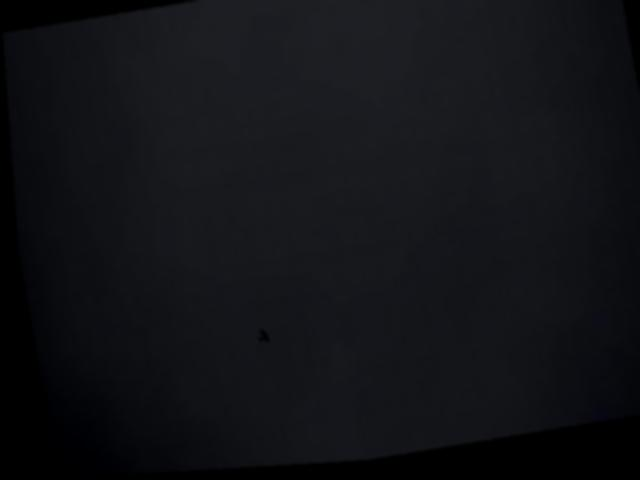uav: (245, 325, 271, 355)
